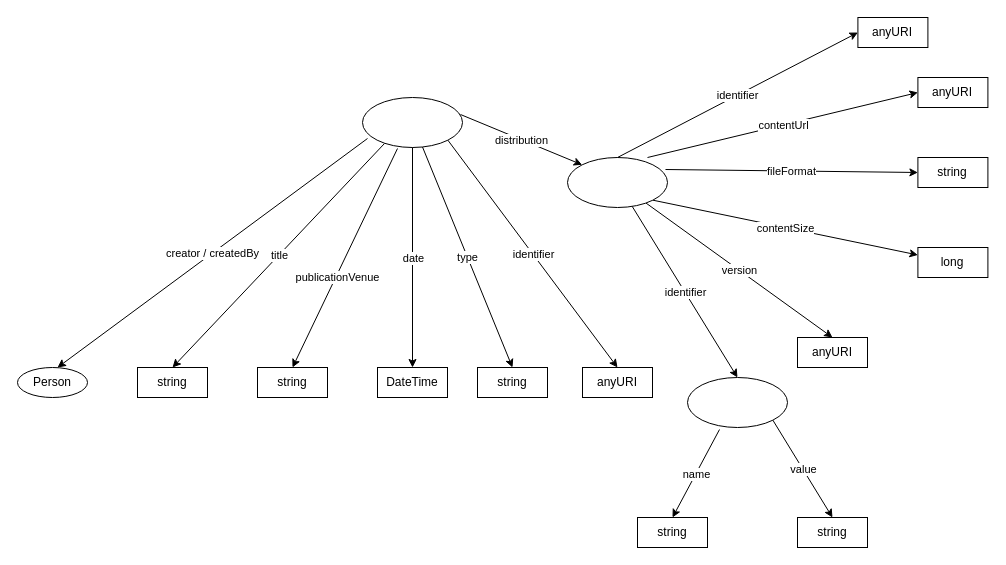
This 1006x565 diagram has some shape labels left out. Here are the shapes that lost their labels. From the top down, the centre of each, then its label:
pixel 412 122: Software
pixel 617 182: Download
pixel 737 402: PropertyValue
